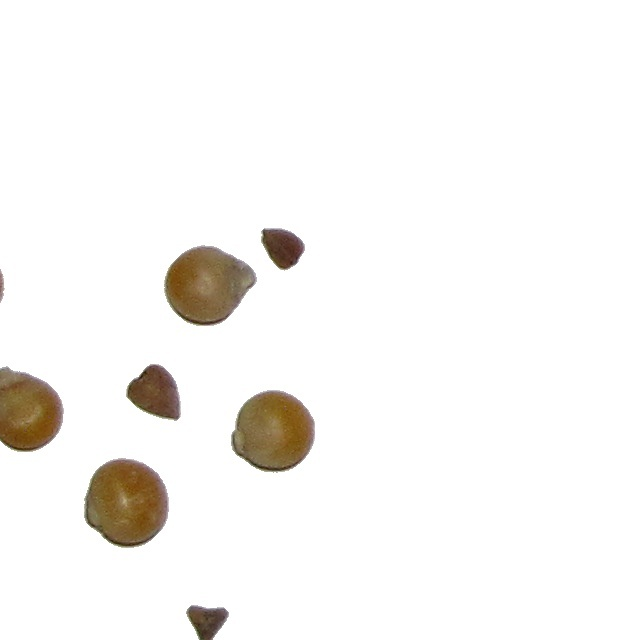buckwheat: (125, 363, 182, 422), (260, 227, 306, 272), (185, 604, 230, 640)
mais: (83, 457, 170, 549), (163, 244, 258, 327), (230, 389, 316, 474)
